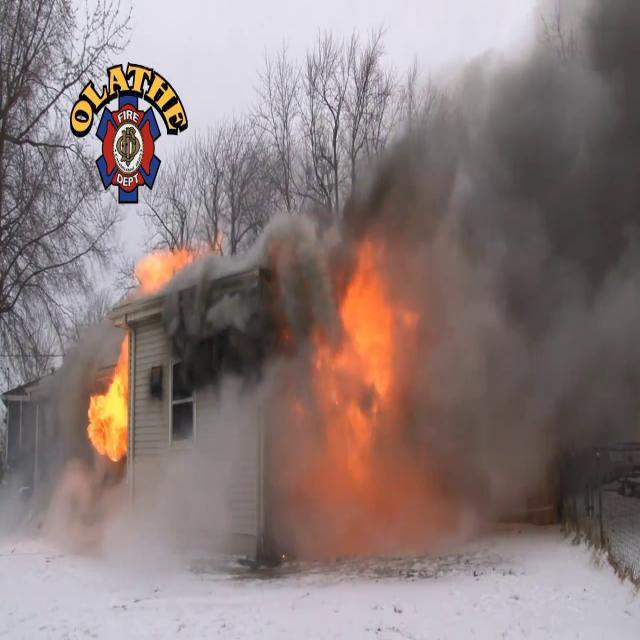Fire: (272, 237, 452, 585), (86, 324, 134, 464), (130, 234, 202, 295)
Smoke: (393, 1, 640, 552)
